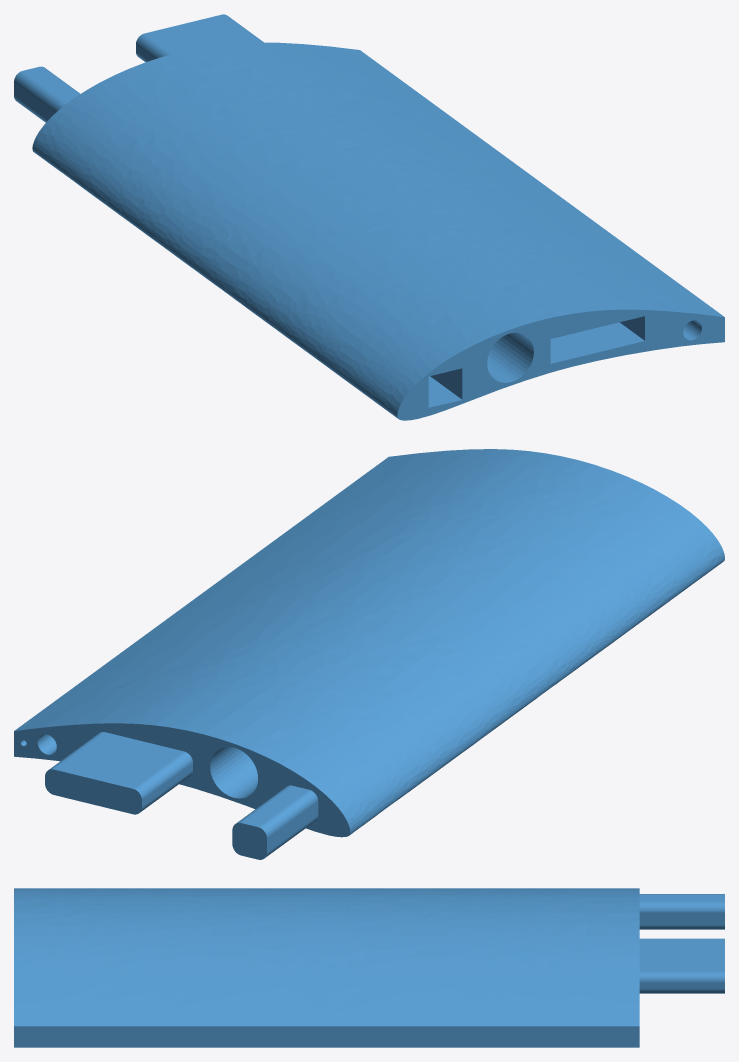
Rendered from wing-panel.glb.
3 renders of one model, top to bottom at view 1: azimuth 30°, elevation 25°; view 2: azimuth 150°, elevation 25°; view 3: azimuth 270°, elevation 25°, orthographic. The views are drawn at different scales.
Parts seen in each view (by area): view 1: wing-panel0; view 2: wing-panel0; view 3: wing-panel0.
Boxes of the visible parts, bbox=[...] form: wing-panel0: bbox=[14, 14, 724, 420]; wing-panel0: bbox=[14, 449, 724, 859]; wing-panel0: bbox=[14, 888, 724, 1047].
Bounding box in the file's own units: 114 × 22.86 × 250.
